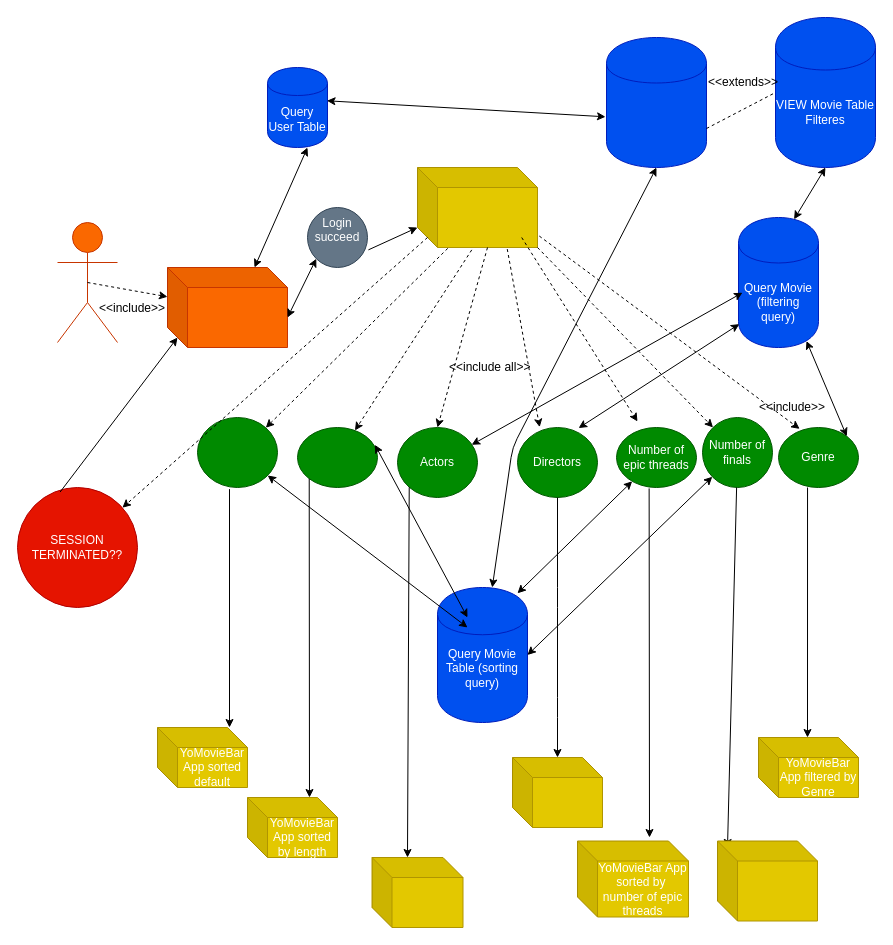
Image size: 893x945. Some labels were removed from this diagram. Here are the shapes that lost their labels. From the top down, the centre of each, then its label:
At (x=656, y=102): "DATABASE".
At (x=477, y=207): "YoMovieBar App sorted by X".
At (x=227, y=307): "LoginApp".
At (x=237, y=452): "Show all".
At (x=337, y=457): "Length".
At (x=557, y=792): "YoMovieBar App filtered by Directors".
At (x=417, y=892): "YoMovieBar App filtered by Actors".
At (x=767, y=880): "YoMovieBar App sorted by number of finals".
